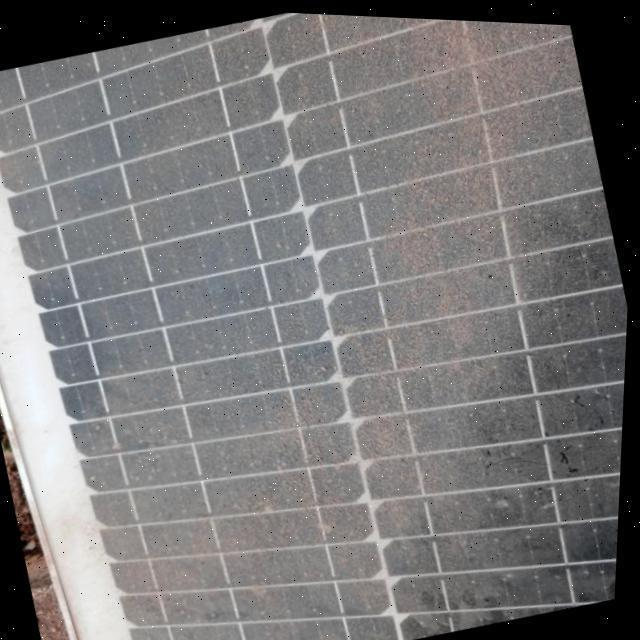Surface Contaminant: (11, 10, 630, 631)
